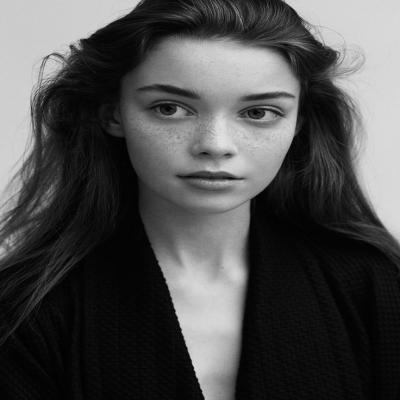netural: (123, 35, 302, 213)
